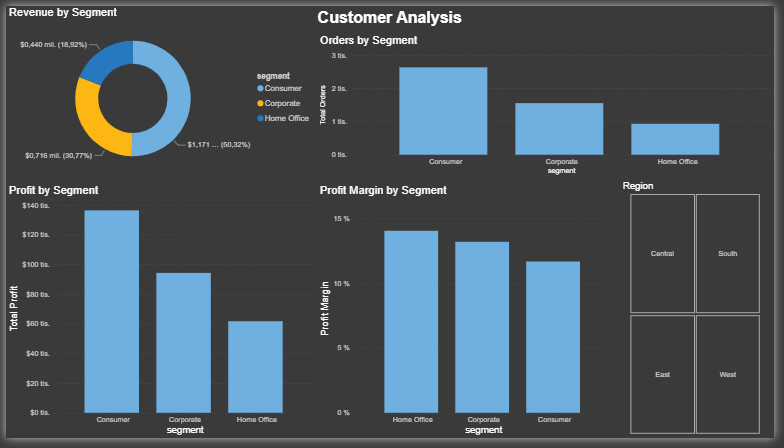

This screenshot's page, from the dashboard's own definition file:
{"tool":"powerbi","page":{"name":"Customer Analysis","canvas":[1280,720],"ordinal":2},"visuals":[{"type":"textbox","box":[366.2,0,545.9,47],"z":0},{"type":"donutChart","title":"Revenue by Segment","fields":{"Category":["Sales.segment"],"Y":["KPI.Total Revenue"]},"box":[0,0,519.1,287.2],"z":1},{"type":"clusteredColumnChart","title":"Profit by Segment","fields":{"Category":["Sales.segment"],"Y":["KPI.Total Profit"]},"box":[0,297.3,519.1,423.3],"z":2},{"type":"clusteredColumnChart","title":"Profit Margin by Segment","fields":{"Category":["Sales.segment"],"Y":["KPI.Profit Margin"]},"box":[519.1,297.3,495.5,423.3],"z":3},{"type":"slicer","fields":{"Values":["Sales.region"]},"box":[1014.6,287.2,265.4,433.4],"z":4},{"type":"clusteredColumnChart","title":"Orders by Segment","fields":{"Y":["KPI.Total Orders"],"Category":["Sales.segment"]},"box":[519.1,47,760.9,240.2],"z":5}]}

Visuals, with their boxes in screenshot pixels (x1, y1, x2, y2), scaled from the page's 1280x720 canvas onto the 784x448 screenshot:
textbox: <region>224, 0, 559, 29</region>
"Revenue by Segment" donutChart: <region>0, 0, 318, 179</region>
"Profit by Segment" clusteredColumnChart: <region>0, 185, 318, 447</region>
"Profit Margin by Segment" clusteredColumnChart: <region>318, 185, 621, 447</region>
slicer - Sales.region: <region>621, 179, 783, 447</region>
"Orders by Segment" clusteredColumnChart: <region>318, 29, 783, 179</region>
